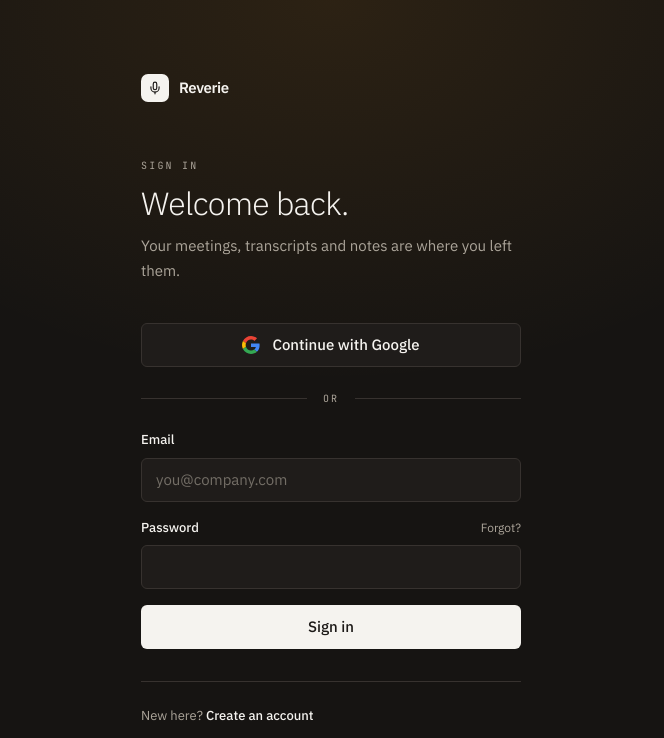
it: a forgotten password › comes back to the sign-in form
Click the button "Forgot?". click: click(501, 528)
box: left=481, top=518, right=521, bottom=536
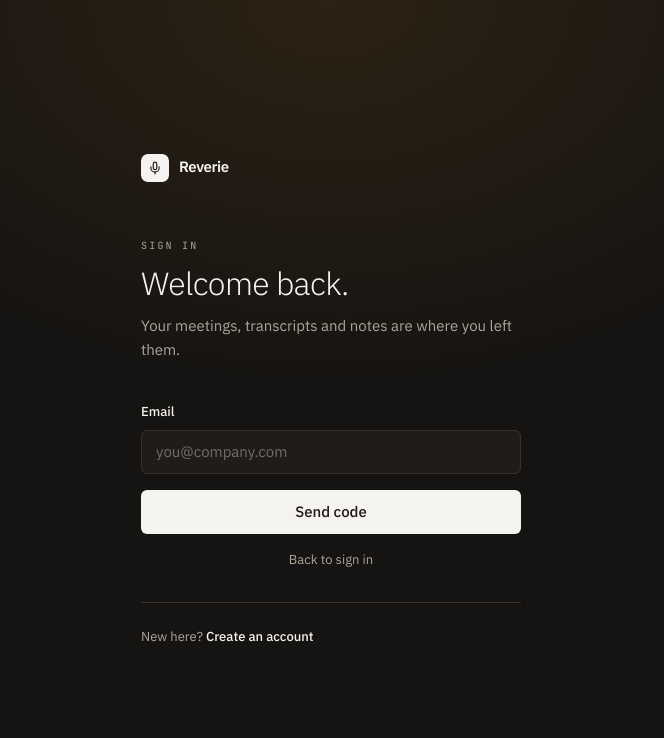
Click the button "Back to sign in". click: click(331, 560)
box: left=141, top=550, right=521, bottom=569
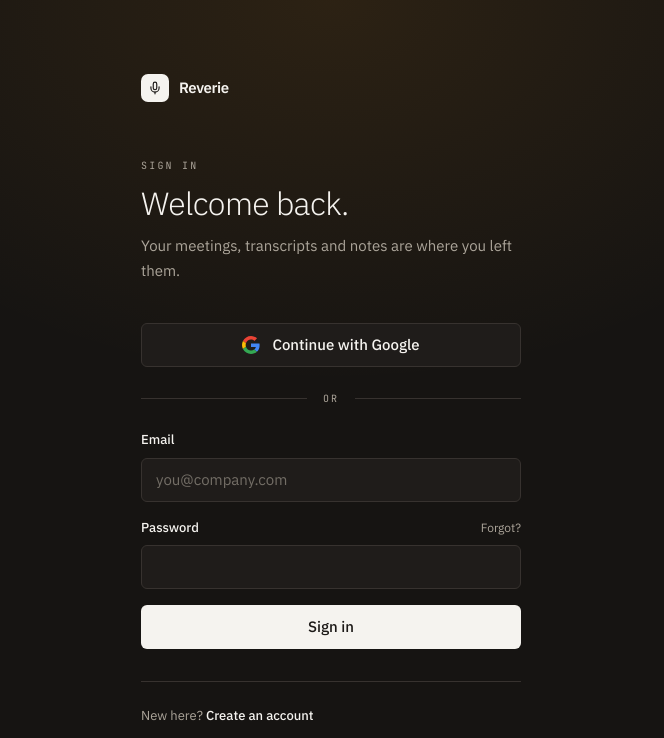
expect the button "Sign in" is shown: met, box left=141, top=605, right=521, bottom=649
